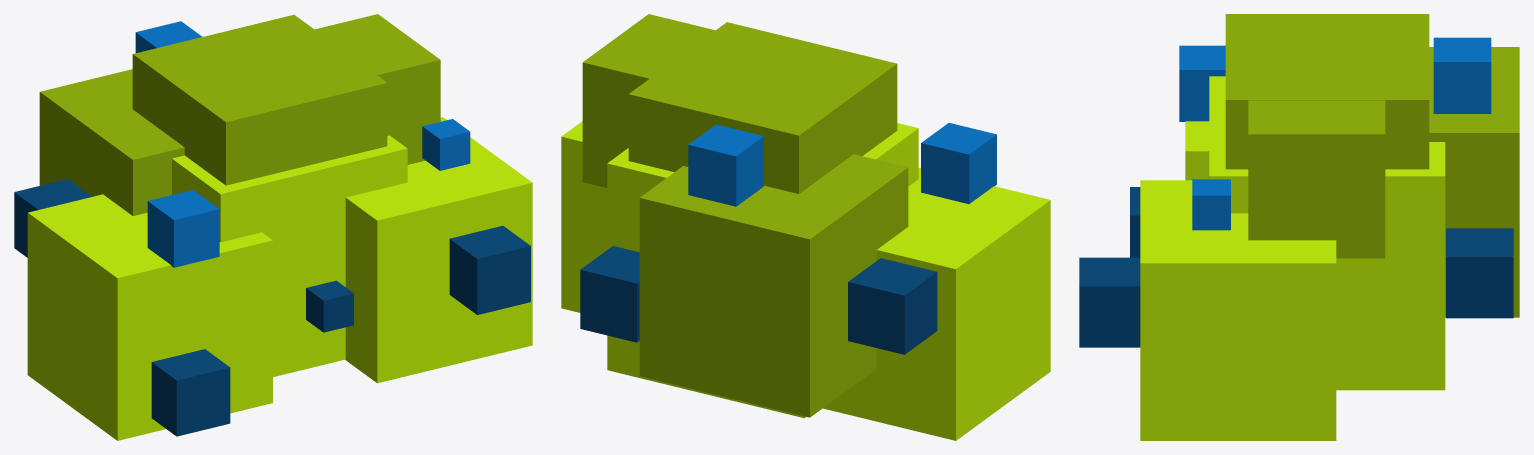
The model's file is bush_2.fbx.
The picture shows the model from 3 angles, left to right: view 1: azimuth 30°, elevation 25°; view 2: azimuth 150°, elevation 25°; view 3: azimuth 270°, elevation 25°; orthographic projection. The views are drawn at different scales.
Parts seen in each view (by area): view 1: Cube.007; view 2: Cube.007; view 3: Cube.007.
Part boxes in pixels (bbox=[...]): Cube.007: bbox=[14, 14, 532, 440]; Cube.007: bbox=[561, 14, 1050, 440]; Cube.007: bbox=[1079, 14, 1519, 440].
Size of the model in its own units: 691 by 459 by 611.
